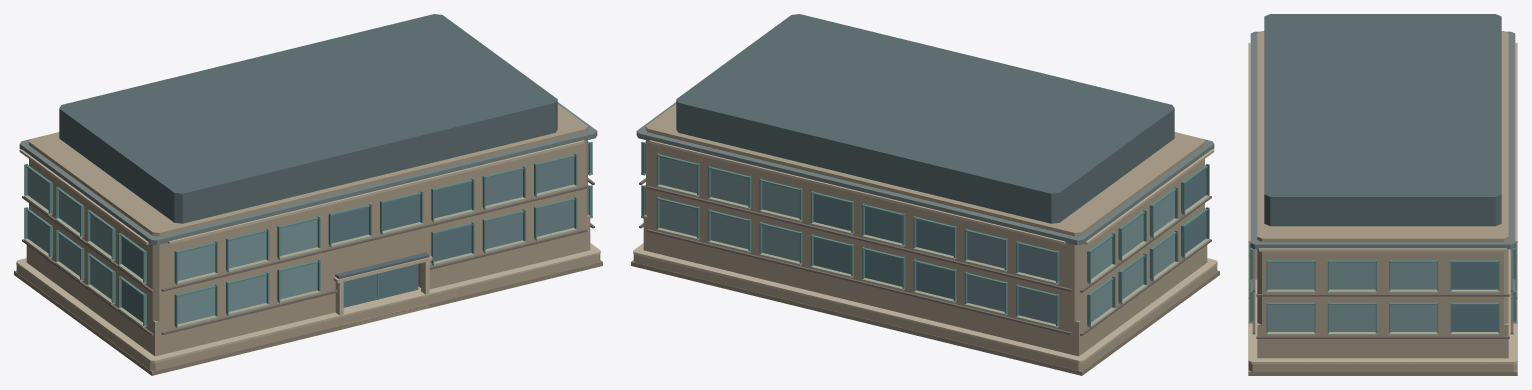
File: hall.glb
The picture shows the model from 3 angles, left to right: view 1: azimuth 30°, elevation 25°; view 2: azimuth 150°, elevation 25°; view 3: azimuth 270°, elevation 25°; orthographic projection. The views are drawn at different scales.
Parts seen in each view (by area): view 1: form, glaze, relief, glowing; view 2: form, glaze, relief, glowing; view 3: form, glaze, relief.
Part boxes in pixels (box(x1,y1,x2,y2)): form: box(14, 14, 602, 375); glaze: box(27, 145, 588, 324); relief: box(24, 141, 592, 328); glowing: box(485, 169, 522, 205); form: box(631, 14, 1219, 375); glaze: box(645, 145, 1206, 324); relief: box(641, 141, 1209, 328); glowing: box(967, 232, 1004, 268); form: box(1248, 14, 1517, 375); glaze: box(1252, 251, 1513, 331); relief: box(1248, 243, 1517, 335).
Size of the model in its own units: 34 by 12 by 18.
